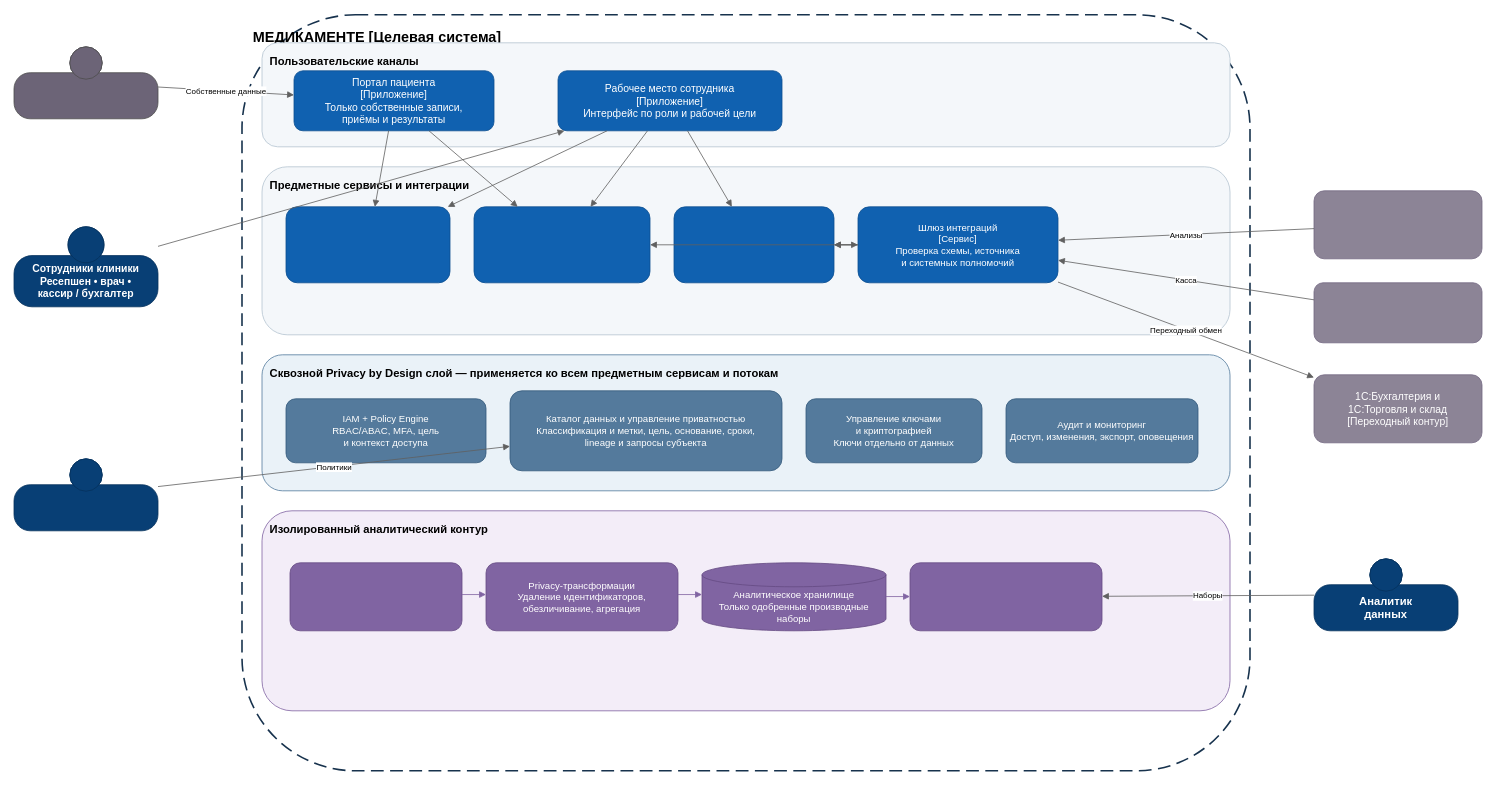
Image size: 1496x785. Some labels were removed from this diagram. Here are the shapes that lost their labels. From the top down, the centre of each, then its label:
the point at 85,82: Пациент [Пользователь]
the point at 367,244: Регистрация и расписание [Сервис]
the point at 561,244: Медицинская карта и результаты анализов [Сервис]
the point at 753,244: Финансовый учёт и расчёты [Сервис]
the point at 1397,224: Медицинская лаборатория [Внешняя система]
the point at 1397,312: ККМ [Переходный контур]
the point at 85,494: Владелец данных / ответственный за ПДн
the point at 375,596: Приём наборов из доменов записи, медицины и финансов Allowlist + policy check
the point at 1005,596: BI / ML / AI Экспорт по утверждённым правилам
